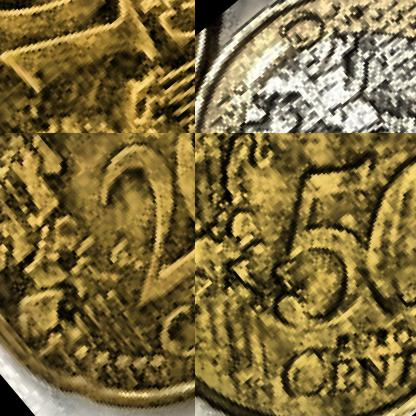coin: (195, 133, 415, 415), (0, 133, 194, 415), (195, 0, 415, 132), (0, 0, 194, 132)
